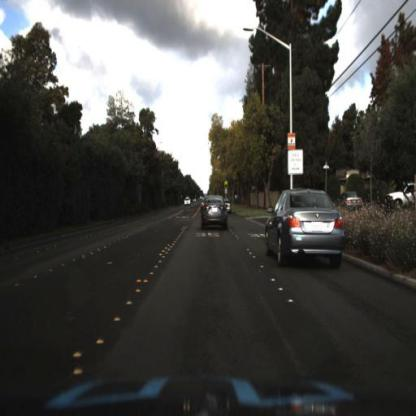car: (262, 184, 348, 271), (199, 193, 231, 232), (334, 187, 369, 219), (389, 183, 416, 210), (218, 196, 233, 216), (185, 198, 192, 207)
